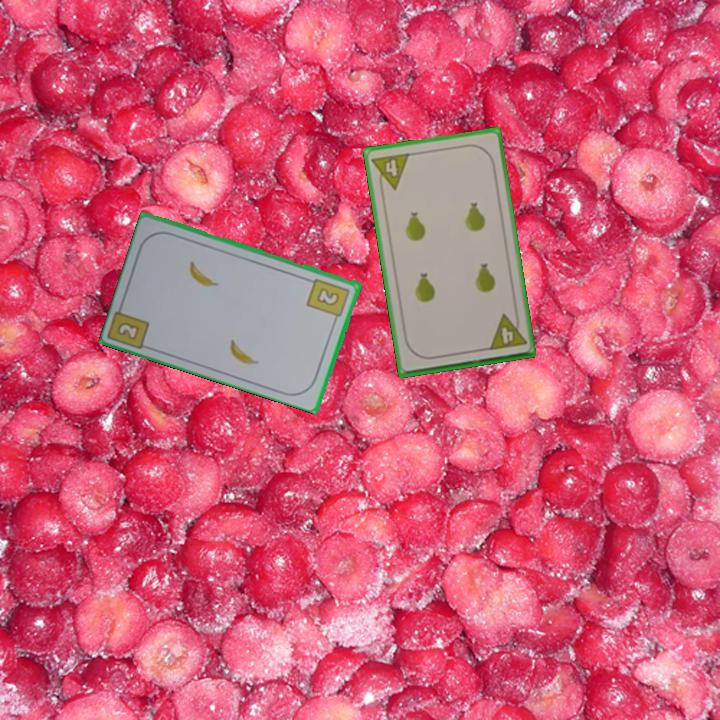2b: (304, 275, 353, 325), (116, 320, 140, 341)
4p: (368, 149, 412, 194), (485, 309, 529, 353)
